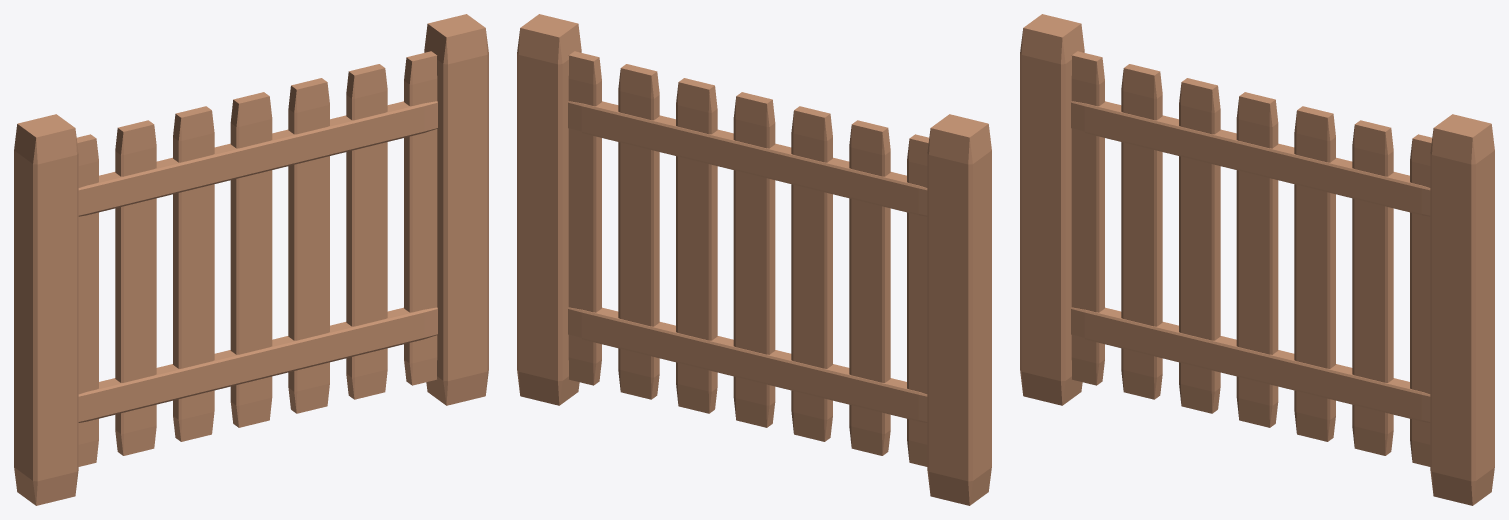
Rendered from b19_cedar_lattice_top_fence.glb.
The picture shows the model from 3 angles, left to right: view 1: azimuth 30°, elevation 25°; view 2: azimuth 150°, elevation 25°; view 3: azimuth 330°, elevation 25°; orthographic projection.
Parts seen in each view (by area): view 1: b19_cedar_lattice_top_fence; view 2: b19_cedar_lattice_top_fence; view 3: b19_cedar_lattice_top_fence.
Boxes of the visible parts, x1,y1,x2,y2 form: b19_cedar_lattice_top_fence: [14, 14, 488, 505]; b19_cedar_lattice_top_fence: [517, 14, 991, 505]; b19_cedar_lattice_top_fence: [1020, 14, 1494, 505].
Size of the model in its own units: 2.62 by 2.02 by 0.22.
